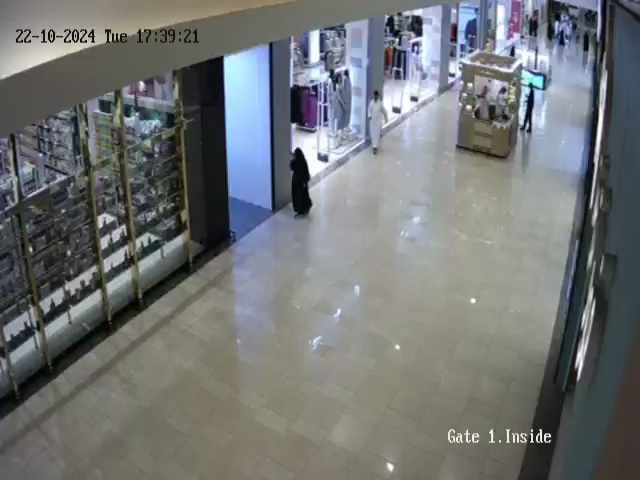female: (289, 147, 313, 218), (520, 84, 534, 132), (579, 27, 593, 52), (547, 18, 554, 45), (527, 16, 533, 37), (535, 19, 538, 38)
male: (367, 90, 389, 155)
other: (323, 64, 339, 143), (341, 62, 353, 145), (412, 41, 427, 104)
